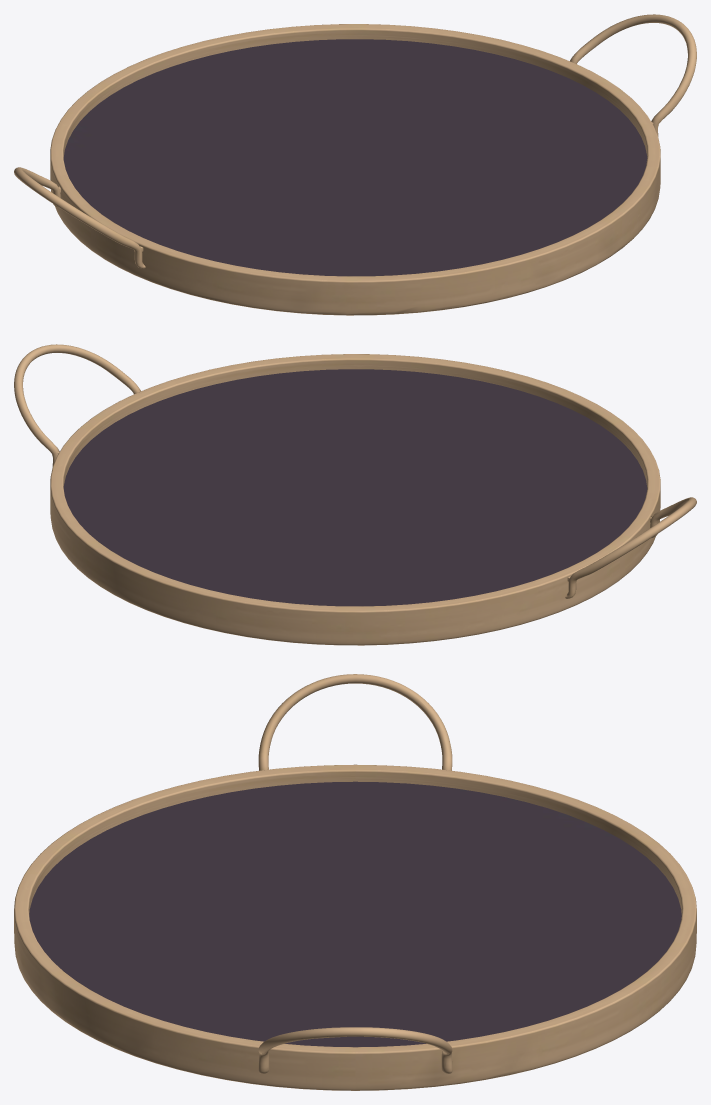
3 views of the same model, one above another, from view 1: azimuth 30°, elevation 25°; view 2: azimuth 150°, elevation 25°; view 3: azimuth 270°, elevation 25° (orthographic). The views are drawn at different scales.
Parts seen in each view (by area): view 1: RootNode; view 2: RootNode; view 3: RootNode.
Boxes of the visible parts, box(x1,y1,x2,y2) form: RootNode: box(14, 14, 696, 315); RootNode: box(14, 344, 696, 645); RootNode: box(14, 674, 696, 1090).
Size of the model in its own units: 0.5426 by 0.0689 by 0.4382.
Materials: 1 (1 with a texture image).
